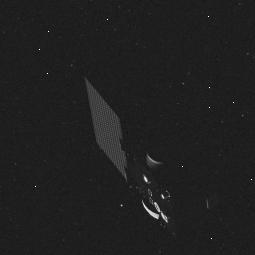proba_3_csc: (81, 76, 212, 228)
